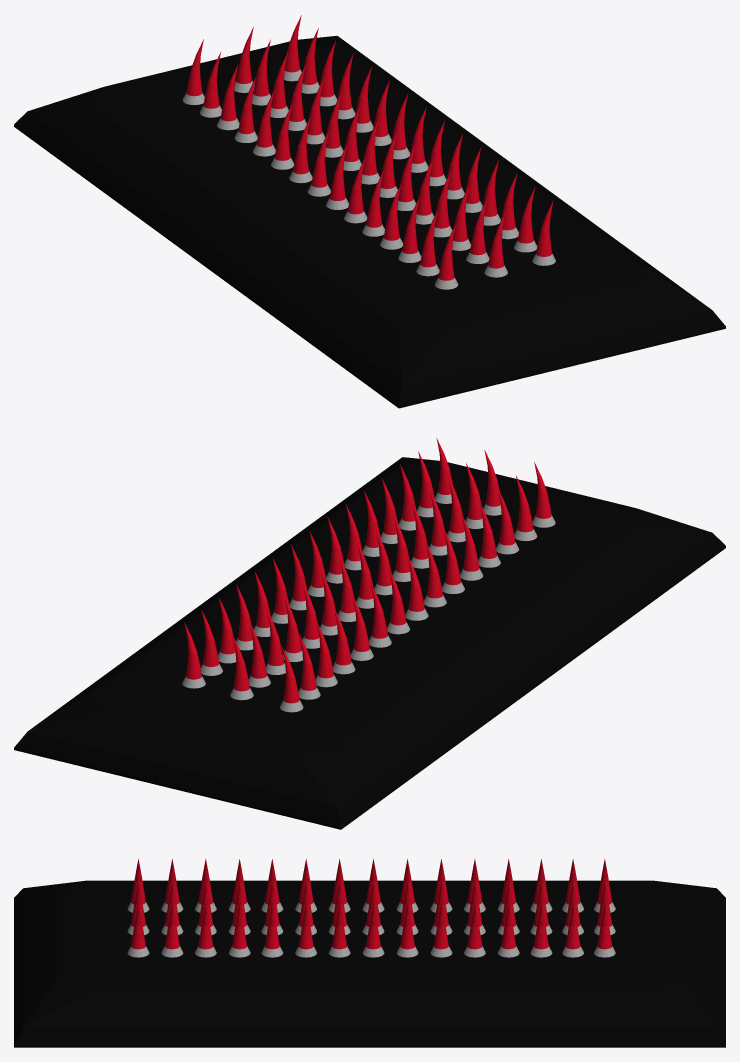
Rendered from kapan7.fbx.
3 views of the same model, one above another, from view 1: azimuth 30°, elevation 25°; view 2: azimuth 150°, elevation 25°; view 3: azimuth 270°, elevation 25° (orthographic). The views are drawn at different scales.
Parts seen in each view (by area): view 1: Cube.004, Circle.098, Circle.099, Circle.104, Circle.131, Circle.103, Circle.110, Circle.123, Circle.100, Circle.112, Circle.125, Circle.130 (+34 smaller); view 2: Cube.004, Circle.105, Circle.111, Circle.110, Circle.127, Circle.101, Circle.100, Circle.104, Circle.098, Circle.102, Circle.112, Circle.129 (+34 smaller); view 3: Cube.004, Circle.138, Circle.142, Circle.141, Circle.131, Circle.130, Circle.140, Circle.139, Circle.135, Circle.134, Circle.129, Circle.137 (+34 smaller).
Boxes of the visible parts, left/top/right/bottom form: Cube.004: left=14, top=35, right=725, bottom=408; Circle.098: left=434, top=224, right=458, bottom=289; Circle.099: left=416, top=210, right=439, bottom=276; Circle.104: left=344, top=157, right=367, bottom=223; Circle.131: left=514, top=187, right=537, bottom=252; Circle.103: left=307, top=131, right=330, bottom=196; Circle.110: left=253, top=90, right=275, bottom=156; Circle.123: left=484, top=211, right=507, bottom=277; Circle.100: left=380, top=183, right=403, bottom=249; Circle.112: left=271, top=104, right=293, bottom=169; Circle.125: left=199, top=51, right=221, bottom=117; Circle.130: left=532, top=200, right=555, bottom=265; Cube.004: left=14, top=457, right=725, bottom=829; Circle.105: left=460, top=515, right=483, bottom=580; Circle.111: left=332, top=608, right=355, bottom=674; Circle.110: left=350, top=595, right=373, bottom=660; Circle.127: left=280, top=646, right=303, bottom=712; Circle.101: left=496, top=488, right=519, bottom=554; Circle.100: left=478, top=501, right=500, bottom=567; Circle.104: left=442, top=528, right=464, bottom=593; Circle.098: left=532, top=462, right=555, bottom=527; Circle.102: left=423, top=541, right=446, bottom=607; Circle.112: left=368, top=581, right=391, bottom=647; Circle.129: left=182, top=622, right=205, bottom=688; Cube.004: left=14, top=880, right=725, bottom=1047; Circle.138: left=530, top=903, right=552, bottom=957; Circle.142: left=396, top=903, right=418, bottom=957; Circle.141: left=430, top=903, right=452, bottom=957; Circle.131: left=161, top=903, right=183, bottom=957; Circle.130: left=127, top=902, right=149, bottom=957; Circle.140: left=498, top=903, right=519, bottom=957; Circle.139: left=464, top=903, right=485, bottom=957; Circle.135: left=362, top=902, right=384, bottom=957; Circle.134: left=328, top=903, right=350, bottom=957; Circle.129: left=594, top=902, right=615, bottom=957; Circle.137: left=261, top=903, right=283, bottom=957.
Bounding box in the file's own units: 41.97 × 13 × 85.55.
